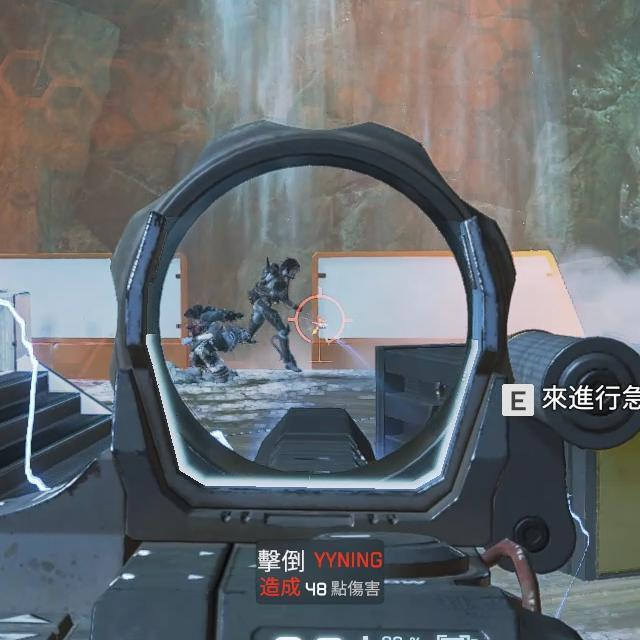avatar: (247, 255, 303, 375)
